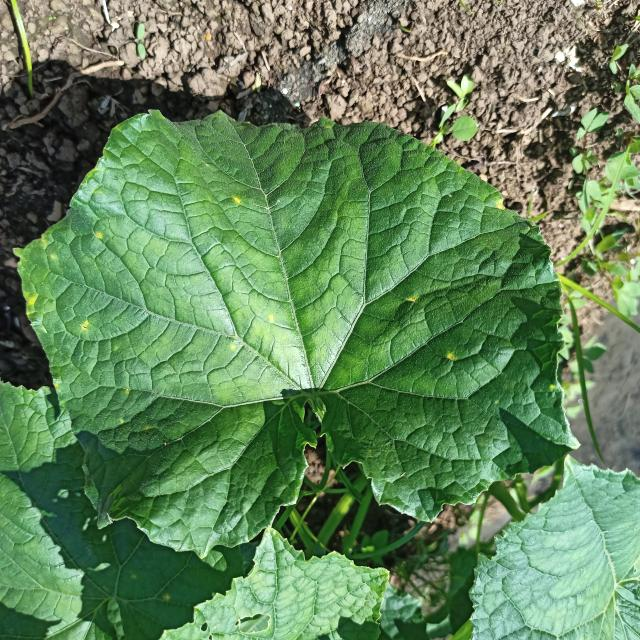disease_cucumber: (21, 292, 38, 316), (80, 320, 89, 331), (406, 296, 419, 303), (496, 200, 504, 211), (447, 352, 456, 361), (548, 382, 557, 390), (233, 196, 241, 204), (230, 343, 236, 349), (96, 233, 102, 239), (269, 315, 274, 322), (54, 382, 58, 388), (126, 388, 130, 392)
